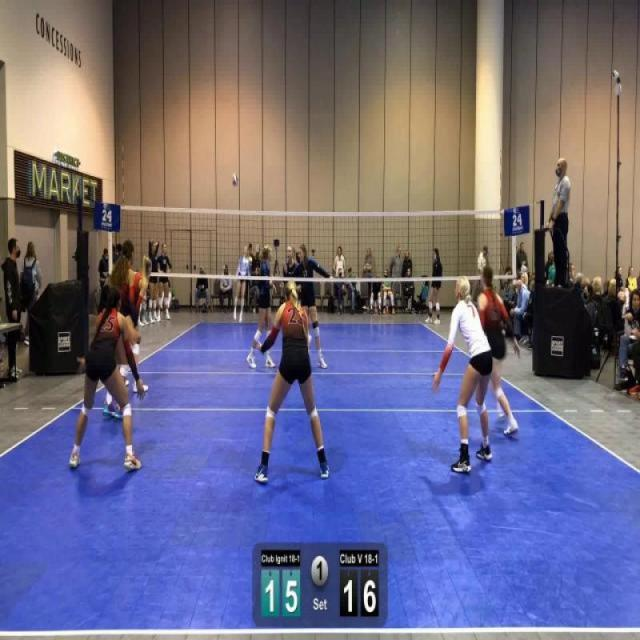volleyball: (231, 172, 239, 188)
